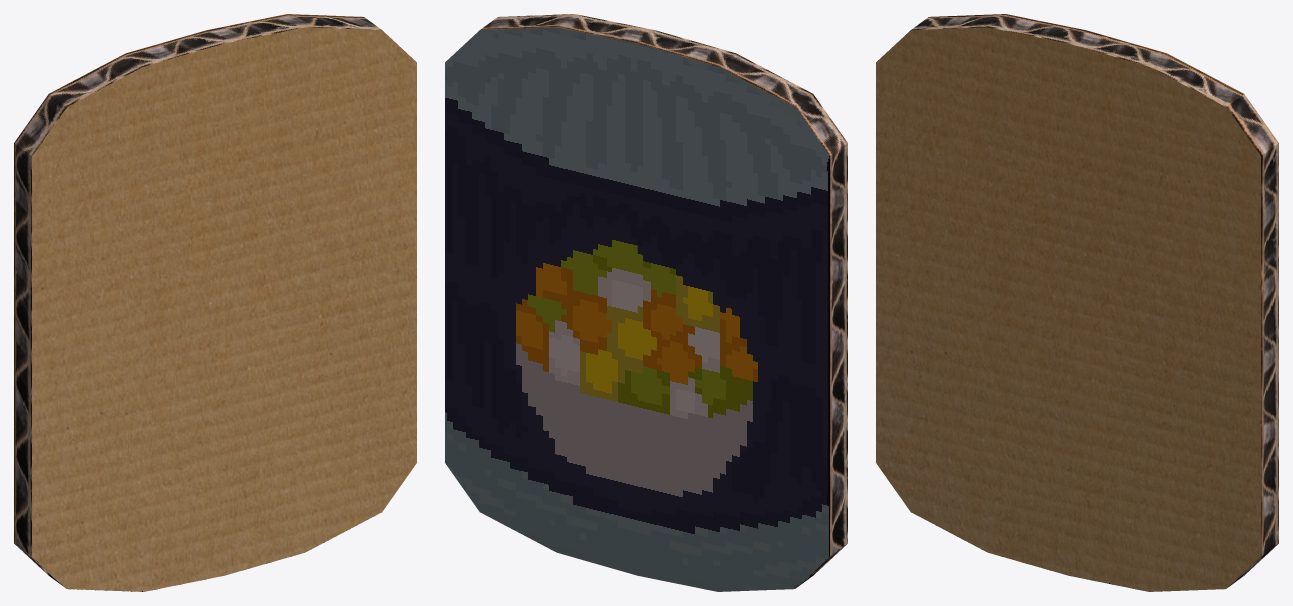
File: LATAS.glb
3 renders of one model, left to right at view 1: azimuth 30°, elevation 25°; view 2: azimuth 150°, elevation 25°; view 3: azimuth 330°, elevation 25°, orthographic.
Visible parts, largest first — view 1: LATA; view 2: LATA; view 3: LATA.
Boxes of the visible parts, x1,y1,x2,y2 form: LATA: [14, 14, 416, 591]; LATA: [445, 14, 847, 591]; LATA: [876, 14, 1278, 591].
Bounding box in the file's own units: 2.29 × 3.02 × 0.1866.
1 material, 1 textured.
